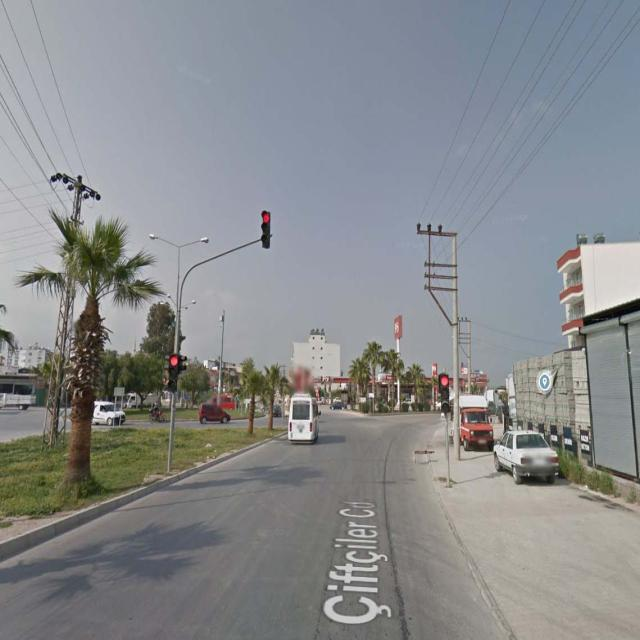kirmizi: (440, 373, 449, 411), (170, 354, 180, 387), (262, 211, 271, 245)
